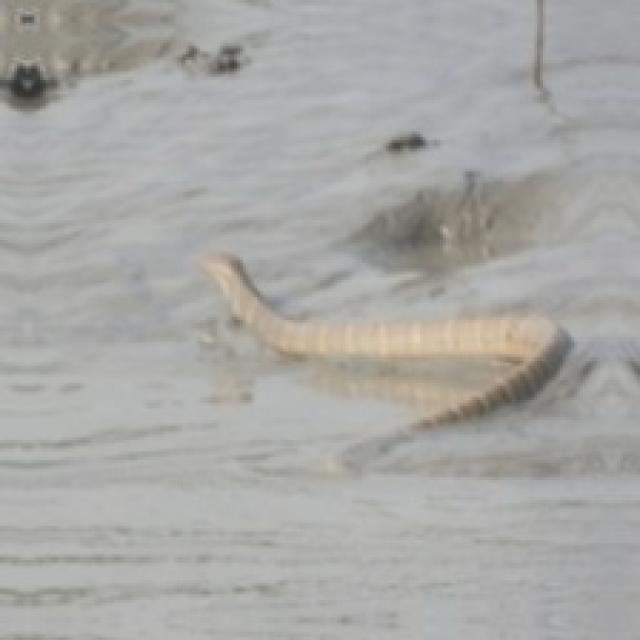king cobra: (200, 251, 571, 469), (200, 251, 569, 466)
